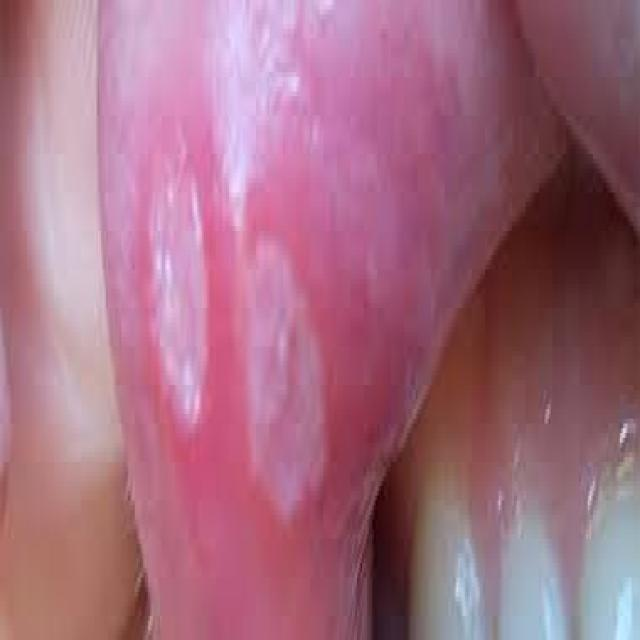processing_area: (98, 2, 565, 635)
ulcer-detection: (134, 97, 356, 538)
